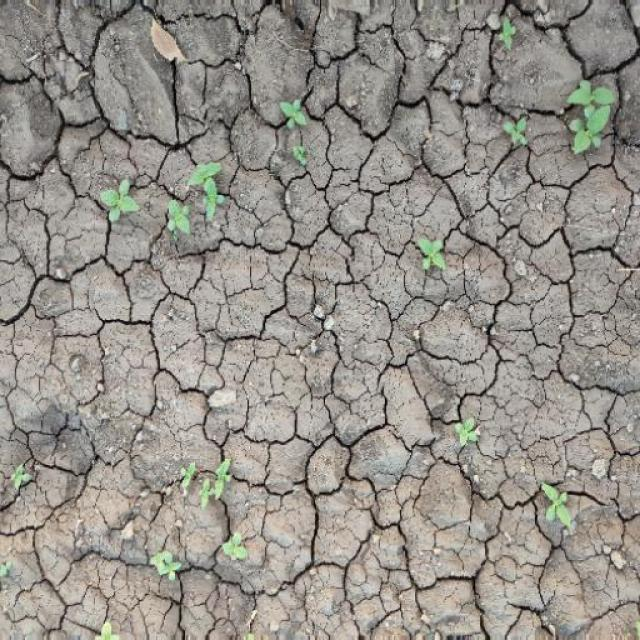crop: (94, 168, 236, 238), (566, 78, 615, 178), (174, 460, 244, 501), (282, 93, 312, 175), (539, 480, 580, 531), (411, 231, 449, 271), (143, 550, 185, 585), (216, 529, 252, 566), (503, 111, 532, 148), (452, 418, 487, 448), (491, 16, 519, 49)
